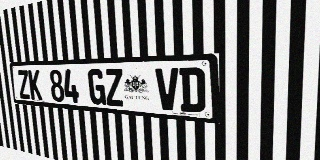4: (62, 69, 79, 103)
8: (49, 69, 65, 102)
D: (179, 67, 205, 113)
G: (87, 69, 106, 105)
K: (28, 70, 42, 100)
V: (155, 68, 179, 111)
Z: (104, 69, 124, 107), (17, 70, 31, 99)
